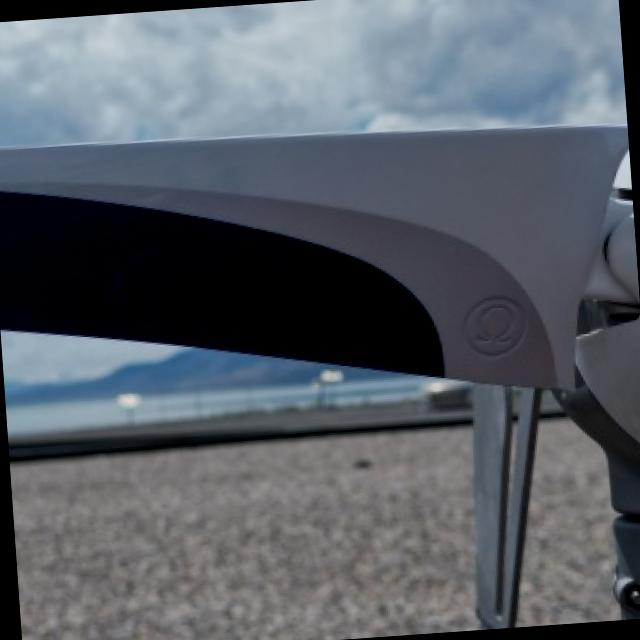healthy: (0, 125, 640, 627)
